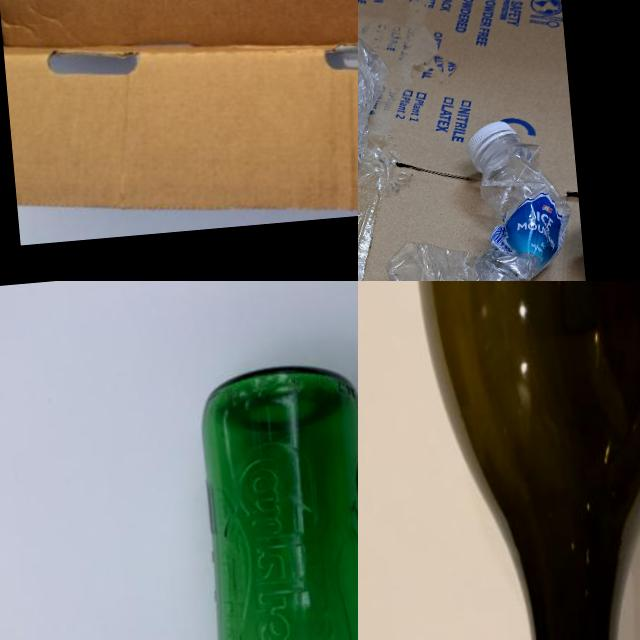garrafa de vidro: (408, 281, 640, 640), (189, 360, 358, 640)
garrafa plástica: (376, 136, 582, 281), (358, 32, 398, 187)
papelão: (0, 0, 358, 244), (358, 0, 610, 281)
tampa plástica: (464, 118, 518, 160)
